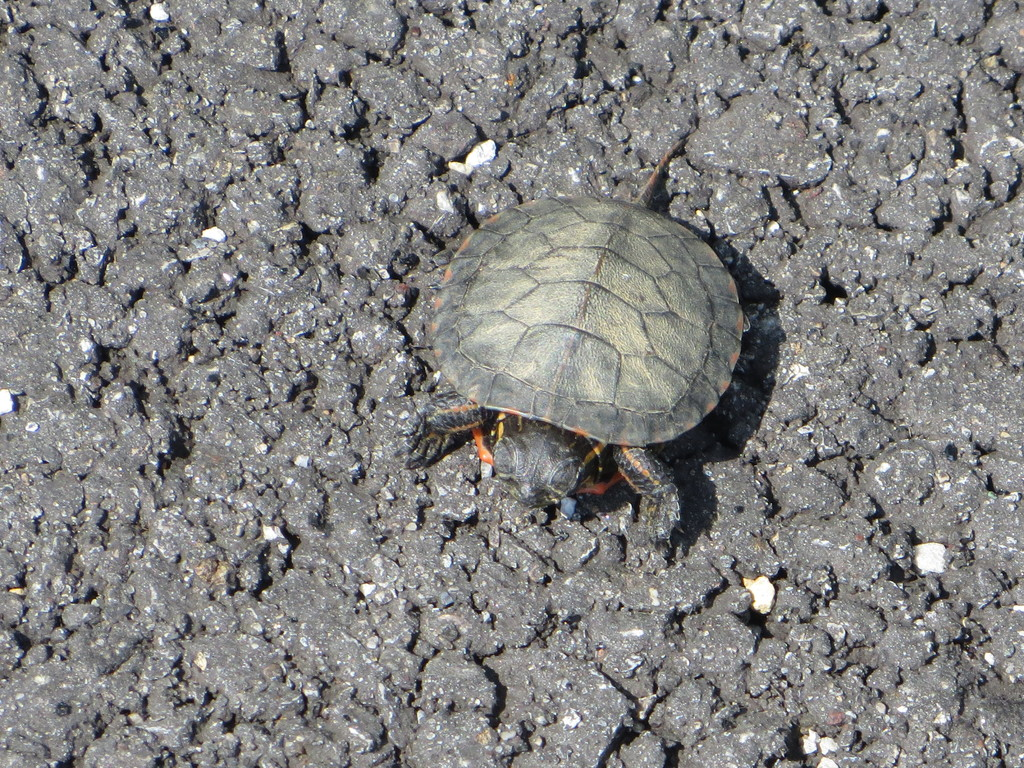Sea turtles: (400, 136, 750, 550)
